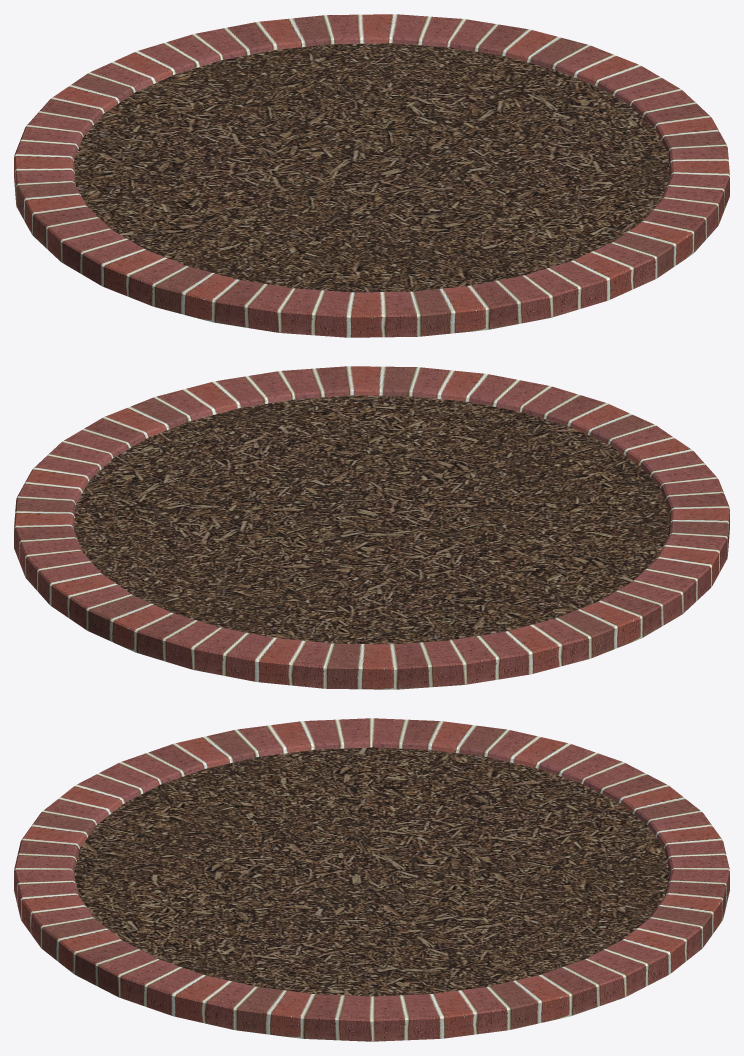
Rendered from flower_bed_b.FBX.
3 renders of one model, top to bottom at view 1: azimuth 30°, elevation 25°; view 2: azimuth 150°, elevation 25°; view 3: azimuth 270°, elevation 25°, orthographic.
Visible parts, largest first — view 1: flower_bed_b; view 2: flower_bed_b; view 3: flower_bed_b.
Part boxes in pixels (x1,y1,x2,y2): flower_bed_b: (14,14,729,337); flower_bed_b: (14,366,729,689); flower_bed_b: (14,718,729,1041).
Size of the model in its own units: 300 by 10 by 300.
